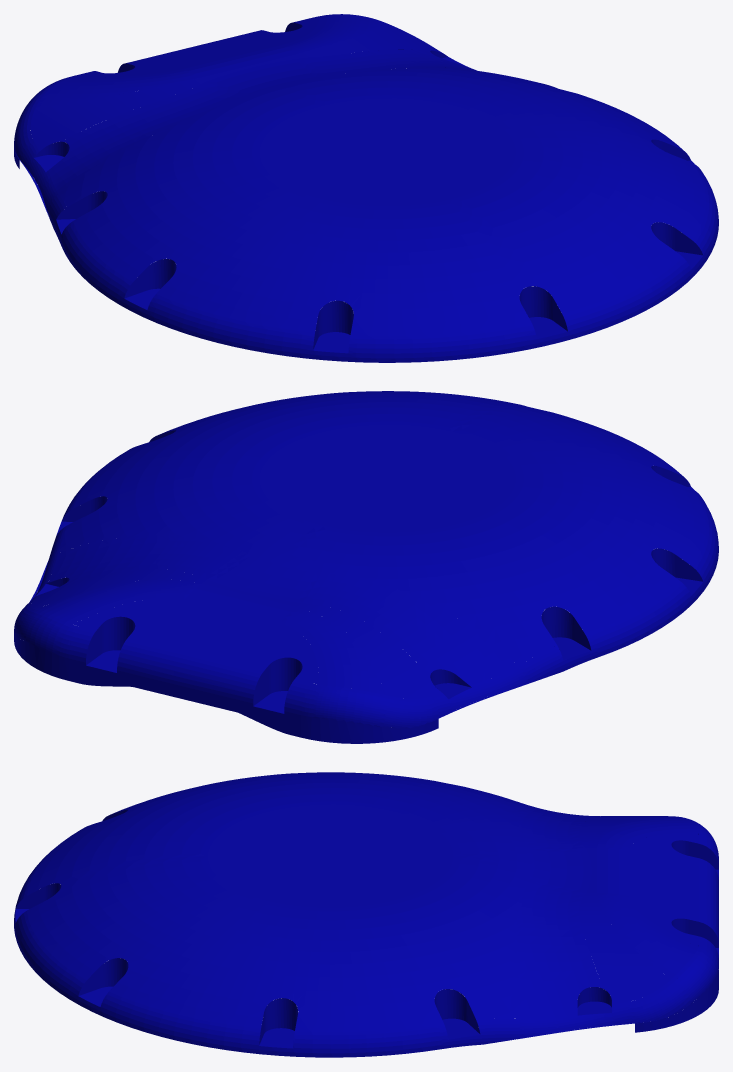
The model's file is cover.dae.
3 renders of one model, top to bottom at view 1: azimuth 30°, elevation 25°; view 2: azimuth 150°, elevation 25°; view 3: azimuth 270°, elevation 25°, orthographic. The views are drawn at different scales.
Parts seen in each view (by area): view 1: Cover; view 2: Cover; view 3: Cover.
Part boxes in pixels (x1,y1,x2,y2): Cover: (14,14,718,362); Cover: (14,391,718,743); Cover: (14,772,718,1057).
Size of the model in its own units: 0.24 by 0.267 by 0.0328.
